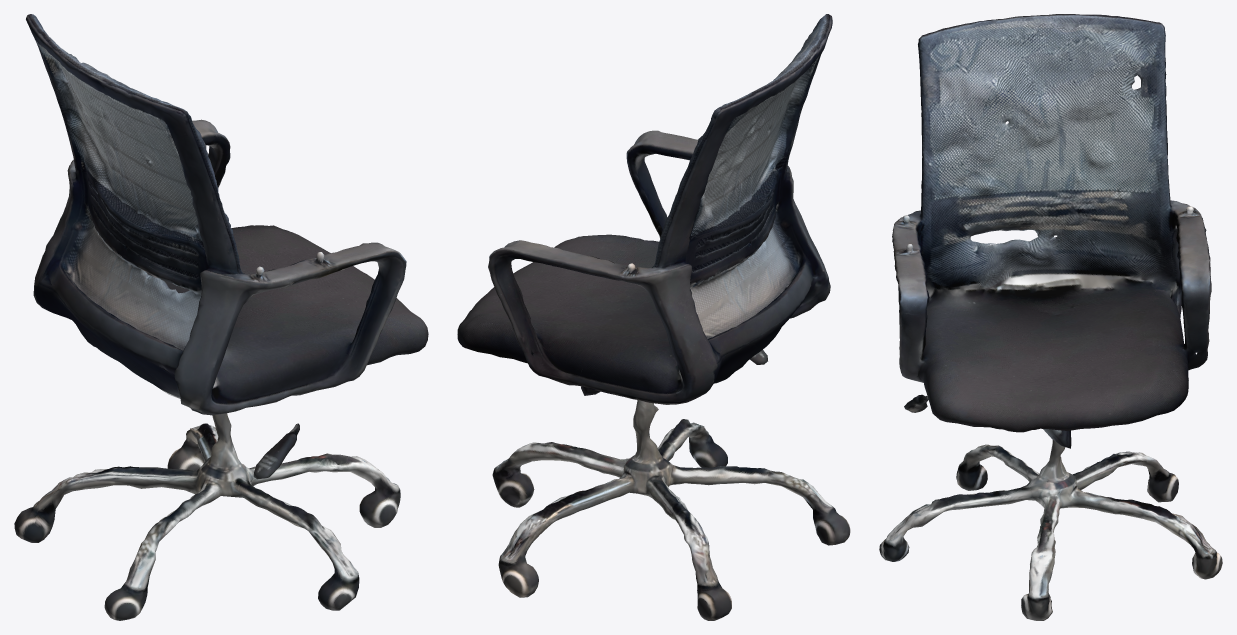
The model's file is chair.obj.
3 renders of one model, left to right at view 1: azimuth 30°, elevation 25°; view 2: azimuth 150°, elevation 25°; view 3: azimuth 270°, elevation 25°, orthographic. The views are drawn at different scales.
Visible parts, largest first — view 1: Mesh; view 2: Mesh; view 3: Mesh.
Part boxes in pixels (bbox=[...]): Mesh: bbox=[14, 14, 428, 620]; Mesh: bbox=[457, 14, 850, 620]; Mesh: bbox=[879, 14, 1222, 620].
Size of the model in its own units: 0.6056 by 0.9361 by 0.6095.
